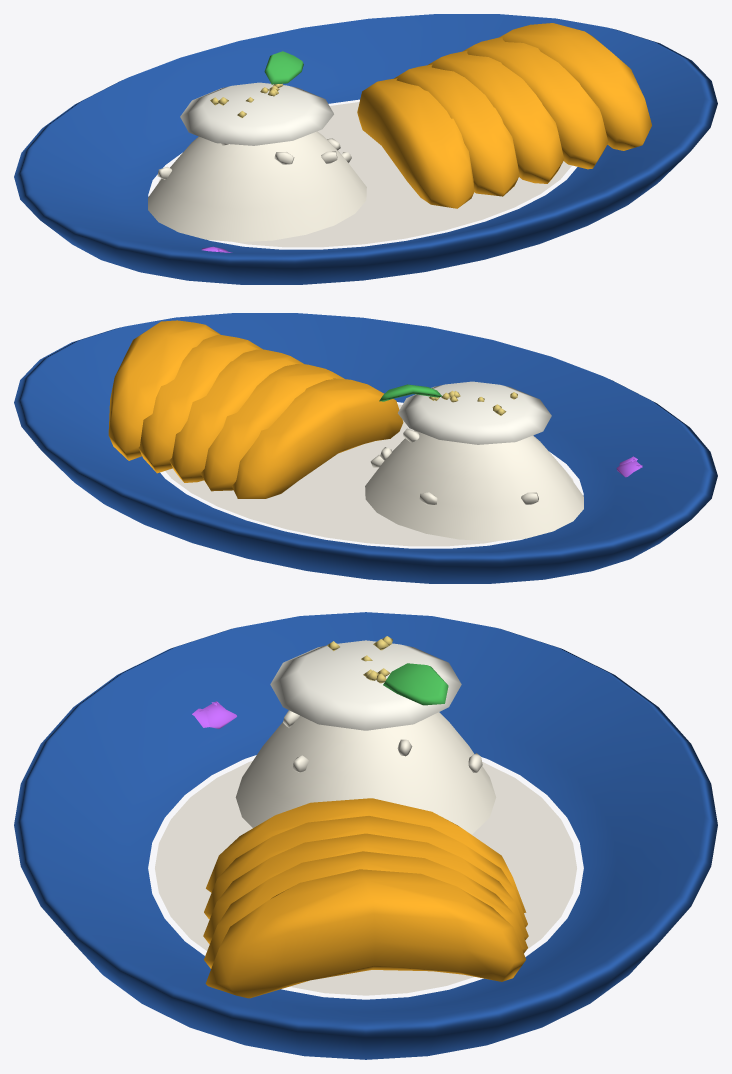
3 views of the same model, one above another, from view 1: azimuth 30°, elevation 25°; view 2: azimuth 150°, elevation 25°; view 3: azimuth 270°, elevation 25° (orthographic). The views are drawn at different scales.
Visible parts, largest first — view 1: plate, mango (×5), rice, plate_well, coconut_cream, mint; view 2: plate, mango (×5), rice, plate_well, coconut_cream, mint; view 3: plate, mango (×5), plate_well, rice, coconut_cream, mint.
Boxes of the visible parts, x1,y1,x2,y2 form: plate: (14, 14, 717, 284); mango (×5): (357, 23, 651, 208); rice: (148, 131, 366, 242); plate_well: (158, 102, 571, 247); coconut_cream: (180, 82, 333, 145); mint: (264, 51, 303, 84); plate: (14, 313, 717, 583); mango (×5): (108, 320, 403, 498); rice: (365, 430, 583, 541); plate_well: (165, 404, 573, 546); coconut_cream: (398, 381, 551, 444); mint: (379, 384, 442, 401); plate: (14, 612, 717, 1059); mango (×5): (203, 798, 528, 998); plate_well: (155, 761, 576, 995); rice: (235, 712, 496, 834); coconut_cream: (270, 640, 461, 730); mint: (383, 663, 448, 705).
Size of the model in its own units: 0.21 by 0.0445 by 0.147.
